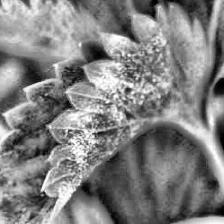Powdery Mildew Leaf: (0, 1, 214, 224)
